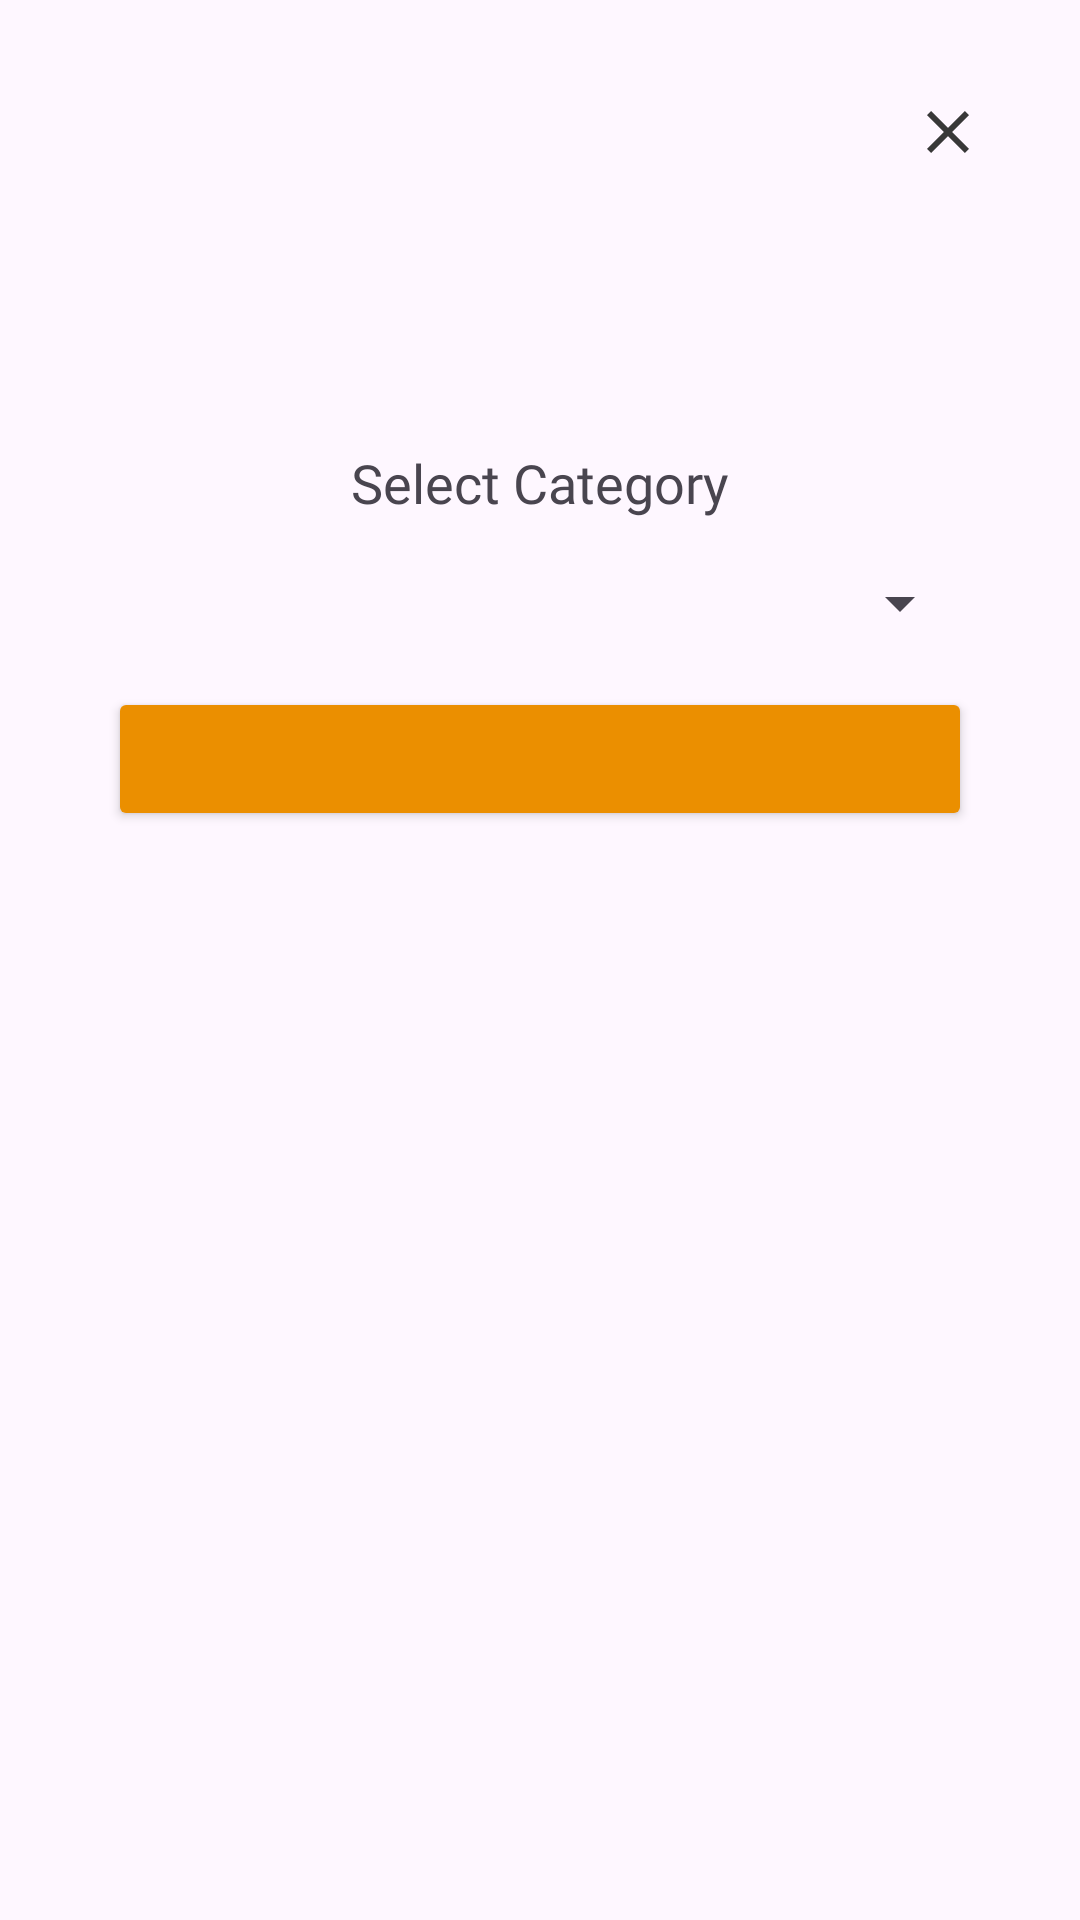

Screen size 1080 x 1920. Icon name, then its center in pixels as point (x, y):
close: point (948, 132)
